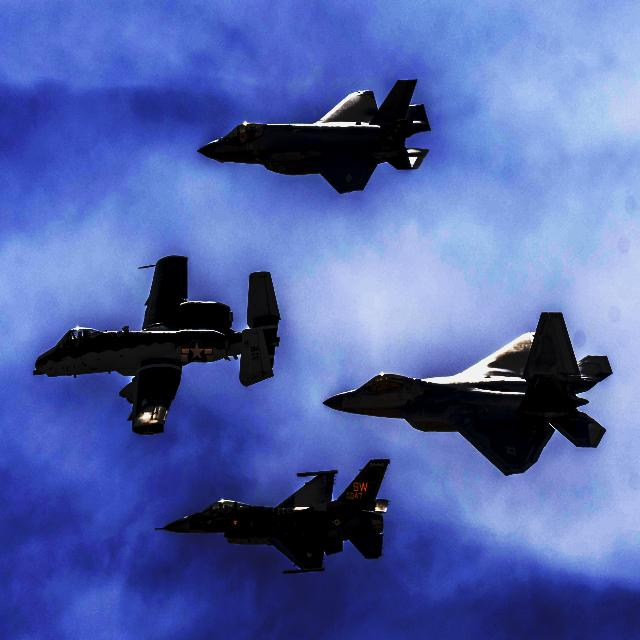Aircraft: (322, 302, 616, 482), (28, 243, 286, 444), (154, 457, 390, 575), (197, 77, 431, 194)
